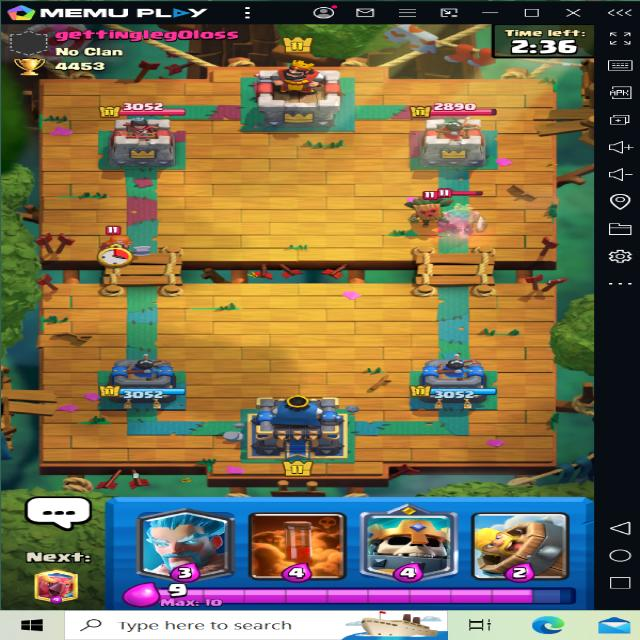dart-goblin: (389, 187, 451, 231)
royal-ghost: (434, 188, 494, 239)
valkyrie: (84, 214, 147, 264)
